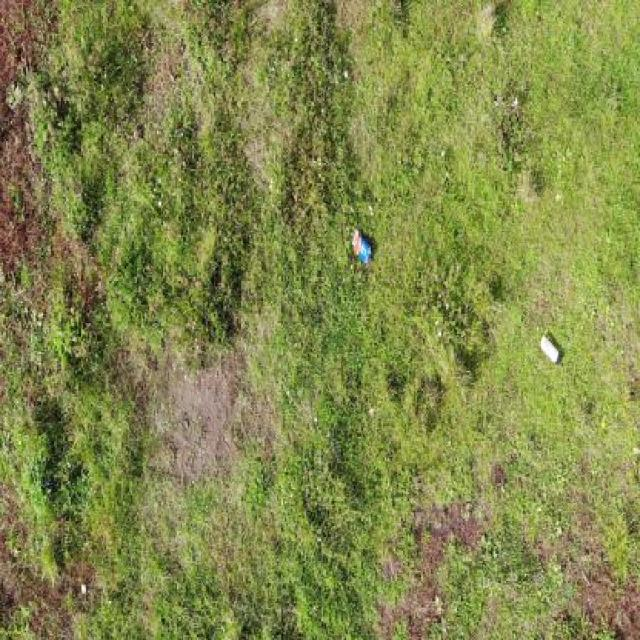Garbage: (351, 225, 374, 265), (536, 335, 562, 368)
